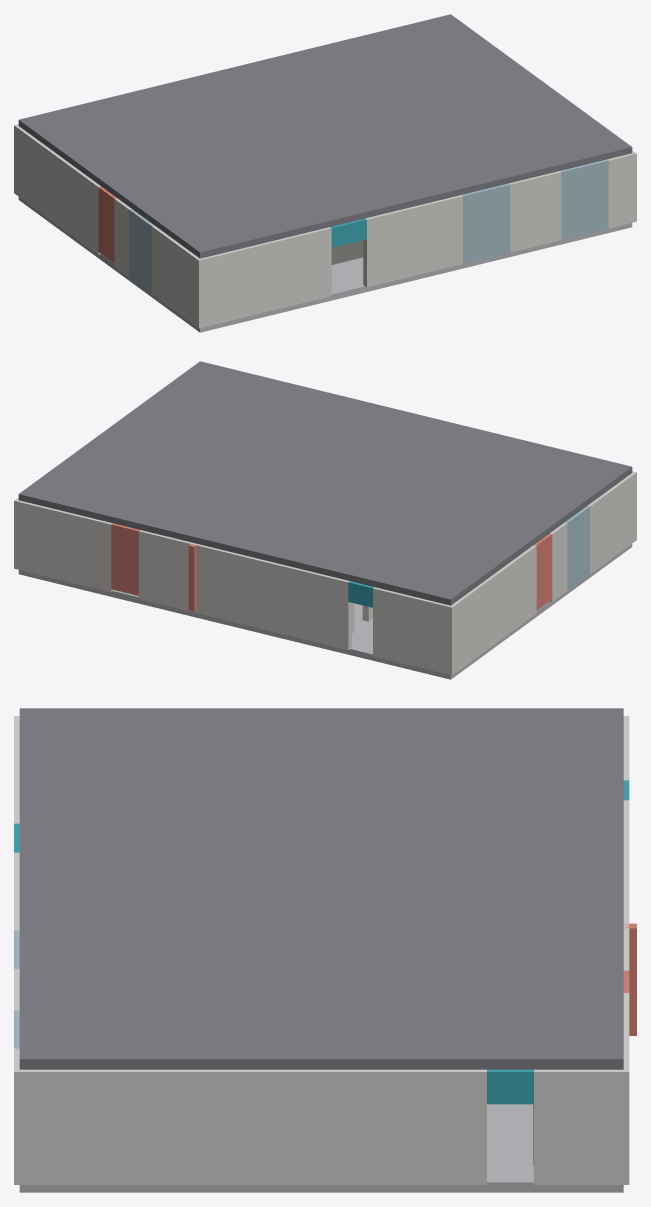
Rendered from gas_station_a03.glb.
3 renders of one model, top to bottom at view 1: azimuth 30°, elevation 25°; view 2: azimuth 150°, elevation 25°; view 3: azimuth 270°, elevation 25°, orthographic. The views are drawn at different scales.
Parts seen in each view (by area): view 1: slab_1_t0_0, slab_1_t0_3, slab_1_t0_1, slab_1_t0_2, slab_1_t0_4, slab_1_t2_0, slab_1_t3_0, slab_1_t1_0, slab_1_t1_4, slab_1_t1_1, slab_1_t3_3, slab_1_t1_2 (+41 smaller); view 2: slab_1_t3_0, slab_1_t3_3, slab_1_t3_1, slab_1_t3_2, slab_1_t3_4, slab_1_t0_0, slab_1_t1_0, slab_1_t2_0, slab_1_t2_4, slab_1_t0_3, slab_1_t2_1, slab_1_t0_2 (+37 smaller); view 3: slab_1_t0_4, slab_1_t1_4, slab_1_t2_4, slab_1_t3_4, slab_1_t0_1, slab_1_t1_1, slab_1_t2_1, slab_1_t3_1, slab_1_t0_0, slab_1_t0_2, slab_1_t1_0, slab_1_t1_2 (+24 smaller).
Part boxes in pixels (<box>): slab_1_t0_0: <box>154,198,286,258</box>; slab_1_t0_3: <box>414,135,545,195</box>; slab_1_t0_1: <box>241,177,372,237</box>; slab_1_t0_2: <box>328,156,459,216</box>; slab_1_t0_4: <box>501,114,632,174</box>; slab_1_t2_0: <box>64,132,195,191</box>; slab_1_t3_0: <box>18,98,149,158</box>; slab_1_t1_0: <box>109,165,240,224</box>; slab_1_t1_4: <box>455,80,586,134</box>; slab_1_t1_1: <box>196,144,327,198</box>; slab_1_t3_3: <box>278,35,409,89</box>; slab_1_t1_2: <box>283,123,413,176</box>; slab_1_t3_0: <box>364,545,496,605</box>; slab_1_t3_3: <box>105,482,236,542</box>; slab_1_t3_1: <box>278,524,409,584</box>; slab_1_t3_2: <box>191,503,322,563</box>; slab_1_t3_4: <box>18,461,149,521</box>; slab_1_t0_0: <box>501,445,632,505</box>; slab_1_t1_0: <box>455,479,586,538</box>; slab_1_t2_0: <box>410,512,541,571</box>; slab_1_t2_4: <box>64,427,195,481</box>; slab_1_t0_3: <box>241,382,372,436</box>; slab_1_t2_1: <box>323,491,454,545</box>; slab_1_t0_2: <box>328,403,458,457</box>; slab_1_t0_4: <box>19,989,170,1069</box>; slab_1_t1_4: <box>170,989,321,1069</box>; slab_1_t2_4: <box>321,989,472,1069</box>; slab_1_t3_4: <box>472,989,623,1069</box>; slab_1_t0_1: <box>19,778,170,848</box>; slab_1_t1_1: <box>170,778,321,848</box>; slab_1_t2_1: <box>321,778,472,848</box>; slab_1_t3_1: <box>472,778,623,848</box>; slab_1_t0_0: <box>19,708,170,778</box>; slab_1_t0_2: <box>19,848,170,918</box>; slab_1_t1_0: <box>170,708,321,778</box>; slab_1_t1_2: <box>170,848,321,918</box>.
Size of what is drawn, in the model's own units: 22.3 by 3.9 by 16.5.
